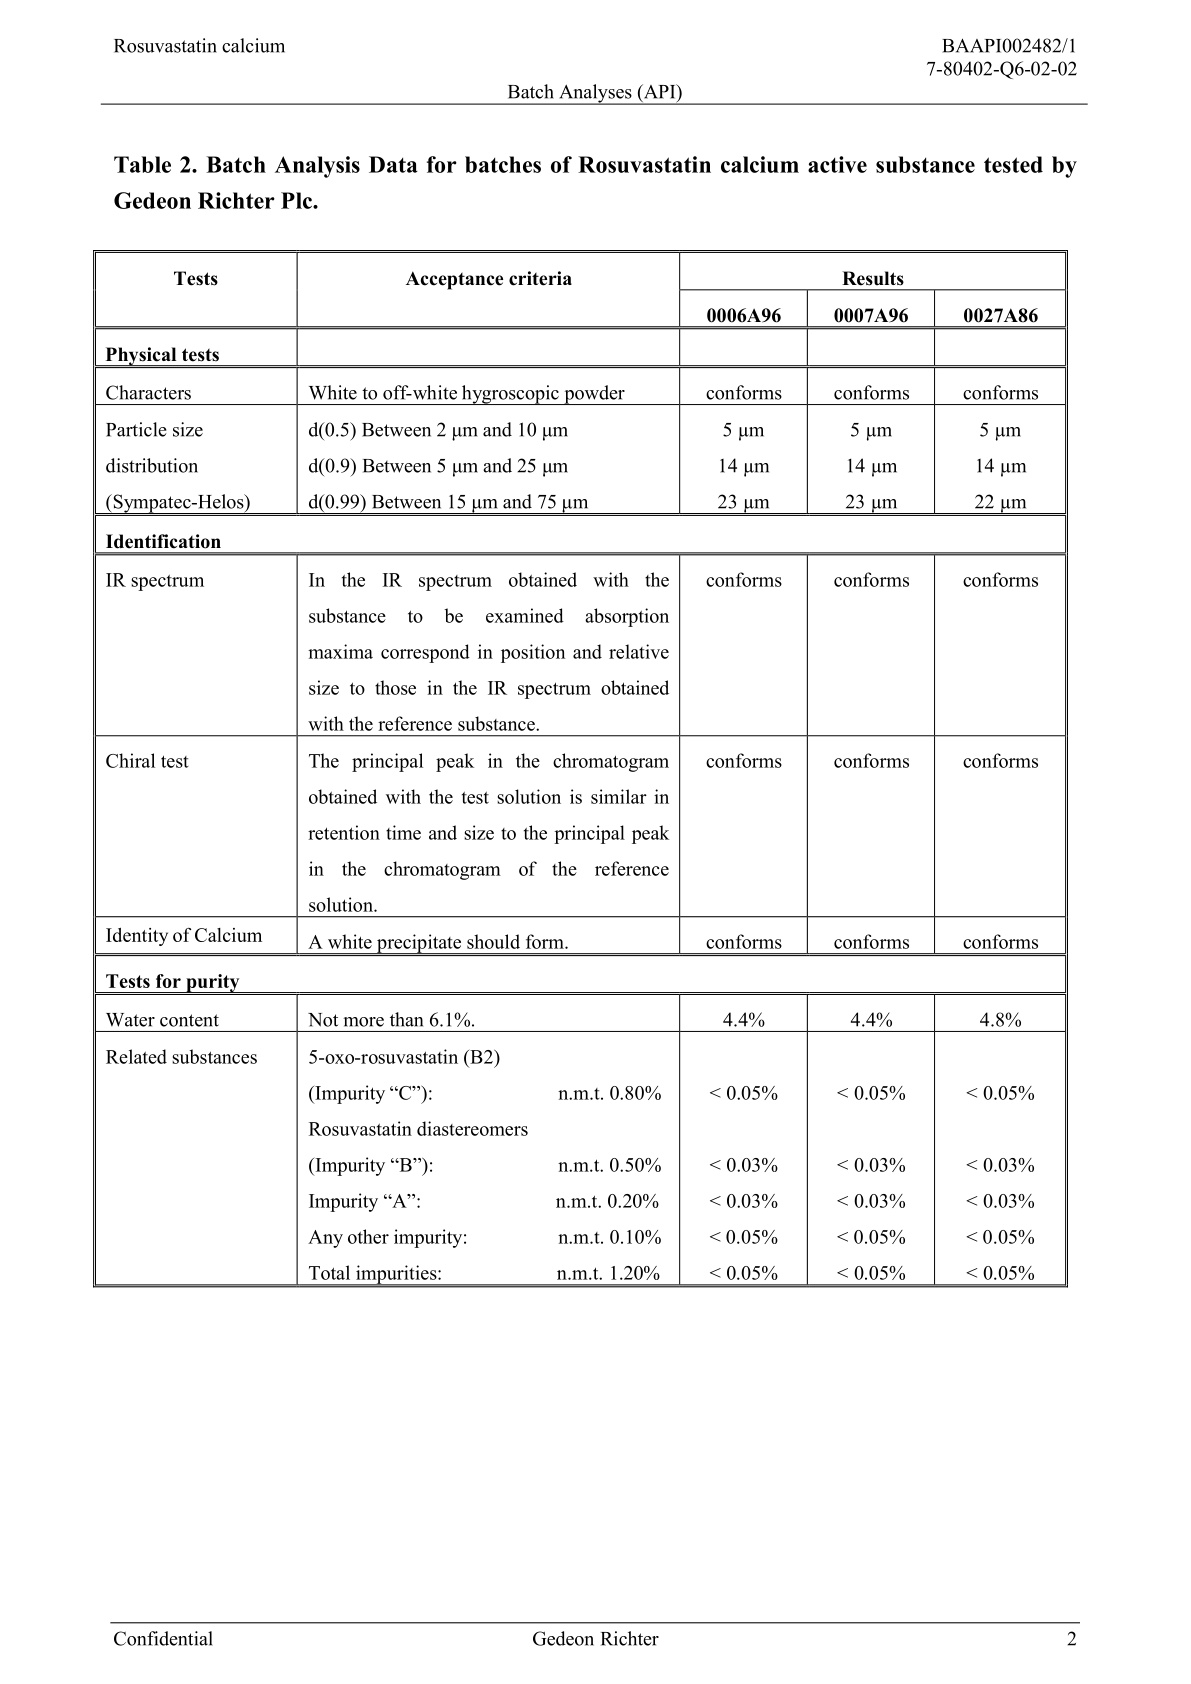merged_cells: (92, 249, 1069, 1288)
